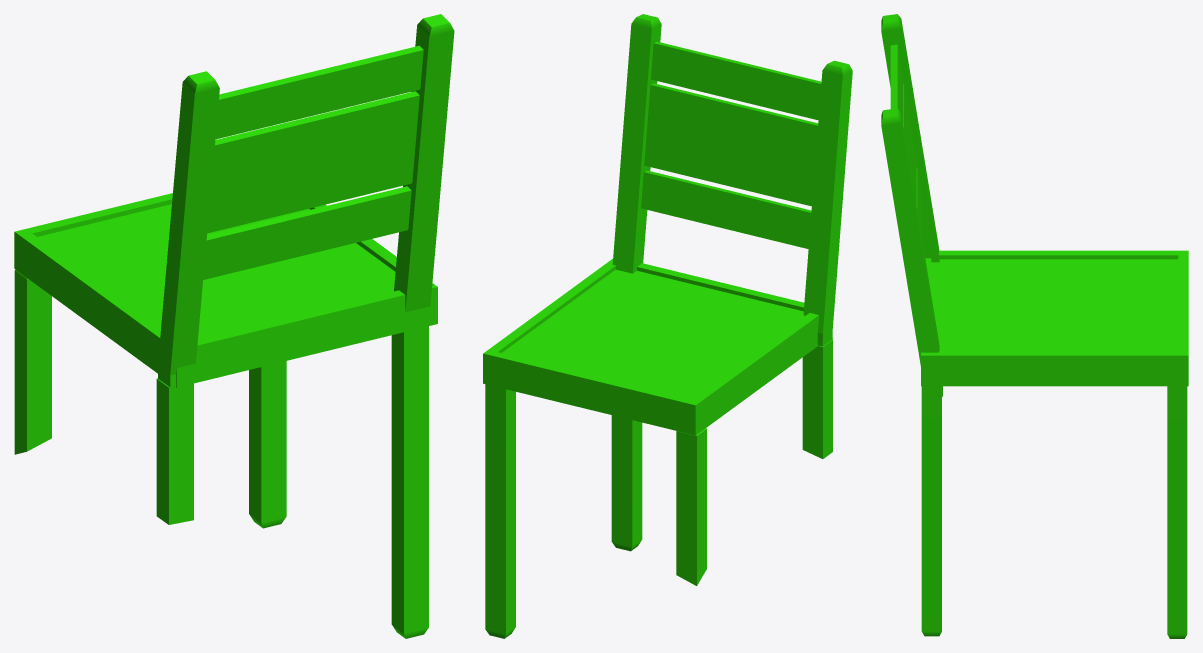
File: Chair_04_Break_Lod0.fbx
The picture shows the model from 3 angles, left to right: view 1: azimuth 30°, elevation 25°; view 2: azimuth 150°, elevation 25°; view 3: azimuth 270°, elevation 25°; orthographic projection. The views are drawn at different scales.
Parts seen in each view (by area): view 1: Chair_04_Break_Lod0; view 2: Chair_04_Break_Lod0; view 3: Chair_04_Break_Lod0.
Part boxes in pixels (left/top/right/bottom): Chair_04_Break_Lod0: left=14, top=14, right=454, bottom=638; Chair_04_Break_Lod0: left=483, top=14, right=852, bottom=638; Chair_04_Break_Lod0: left=881, top=14, right=1188, bottom=638.
Size of the model in its own units: 38.55 by 86.92 by 46.48.
